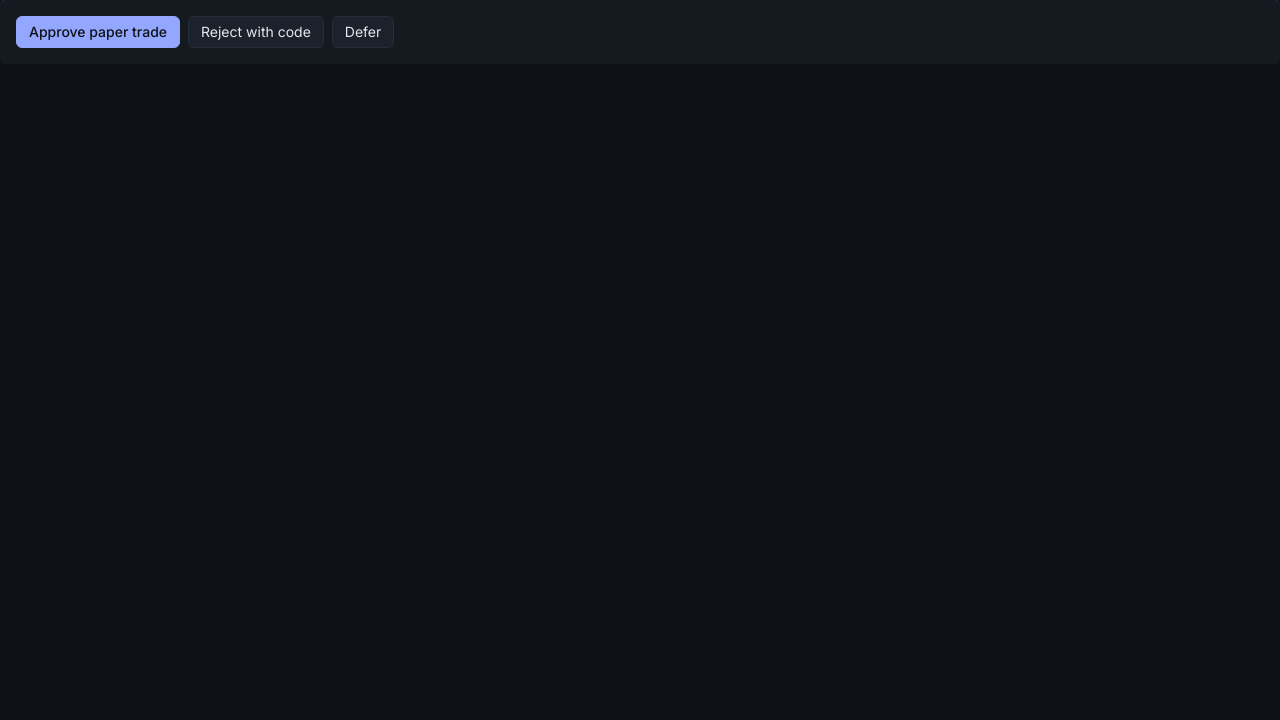
Test: approve › cancel and Escape close the dialog without sending anything
Click the button "Approve paper trade" at (98, 32), box [16,16,180,48]
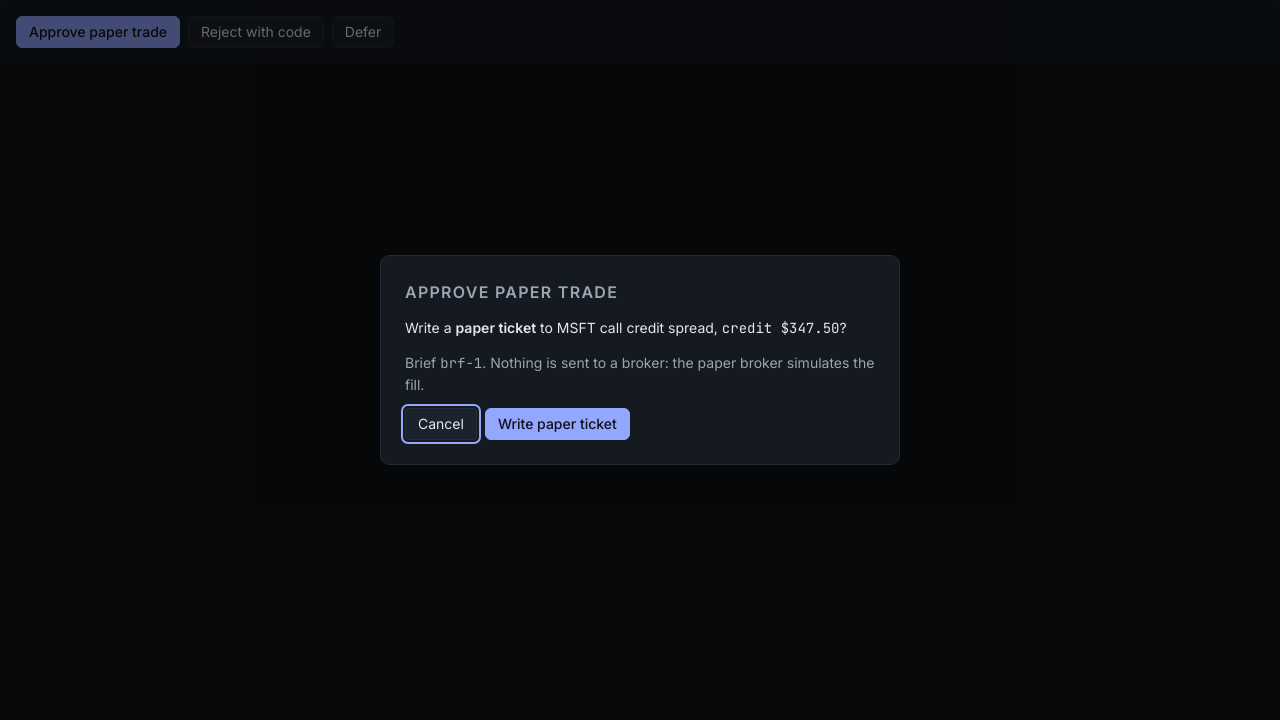
Click the button "Cancel" at (441, 424), box [405,408,477,440]
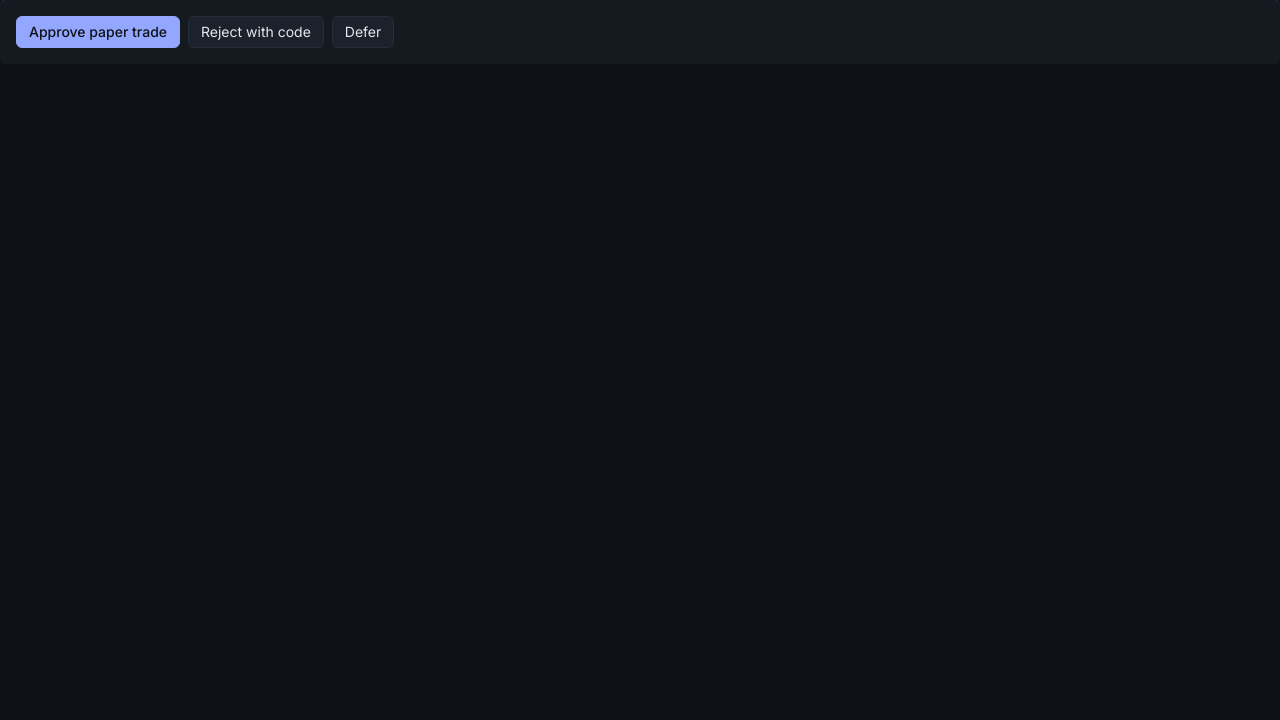
Expected: the dialog is gone
Click the button "Approve paper trade" at (98, 32), box [16,16,180,48]
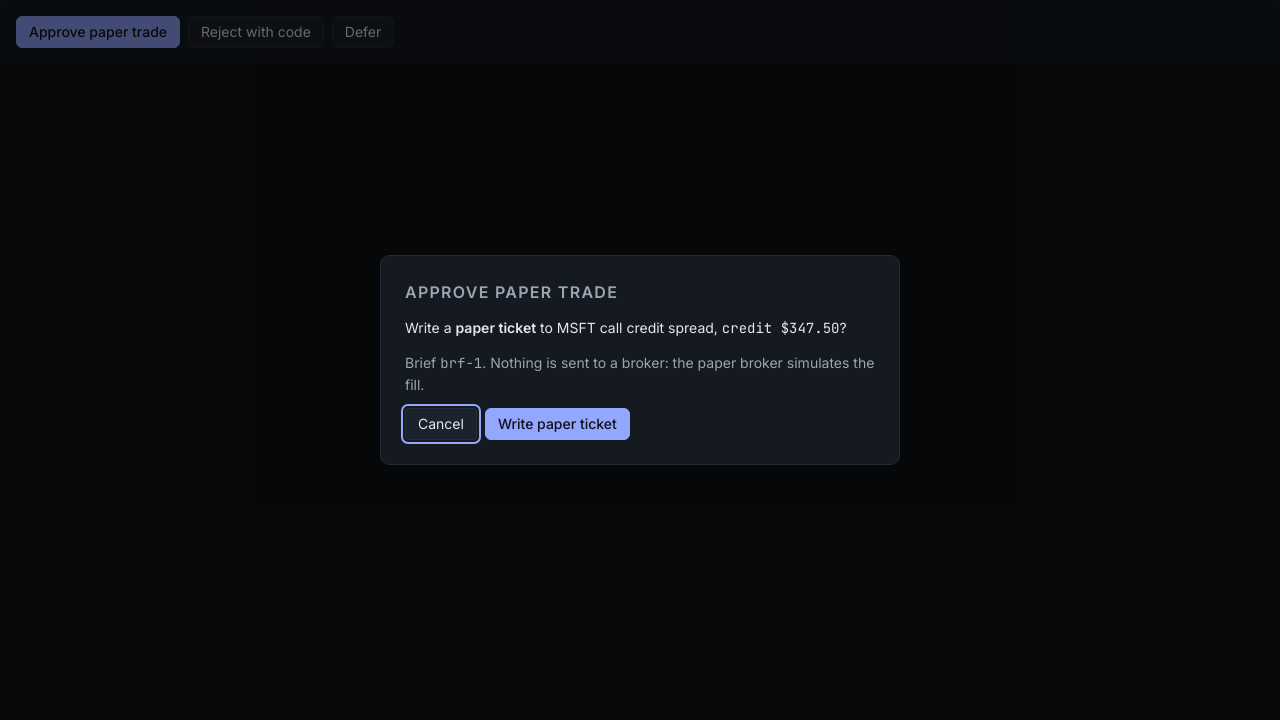
Press Escape
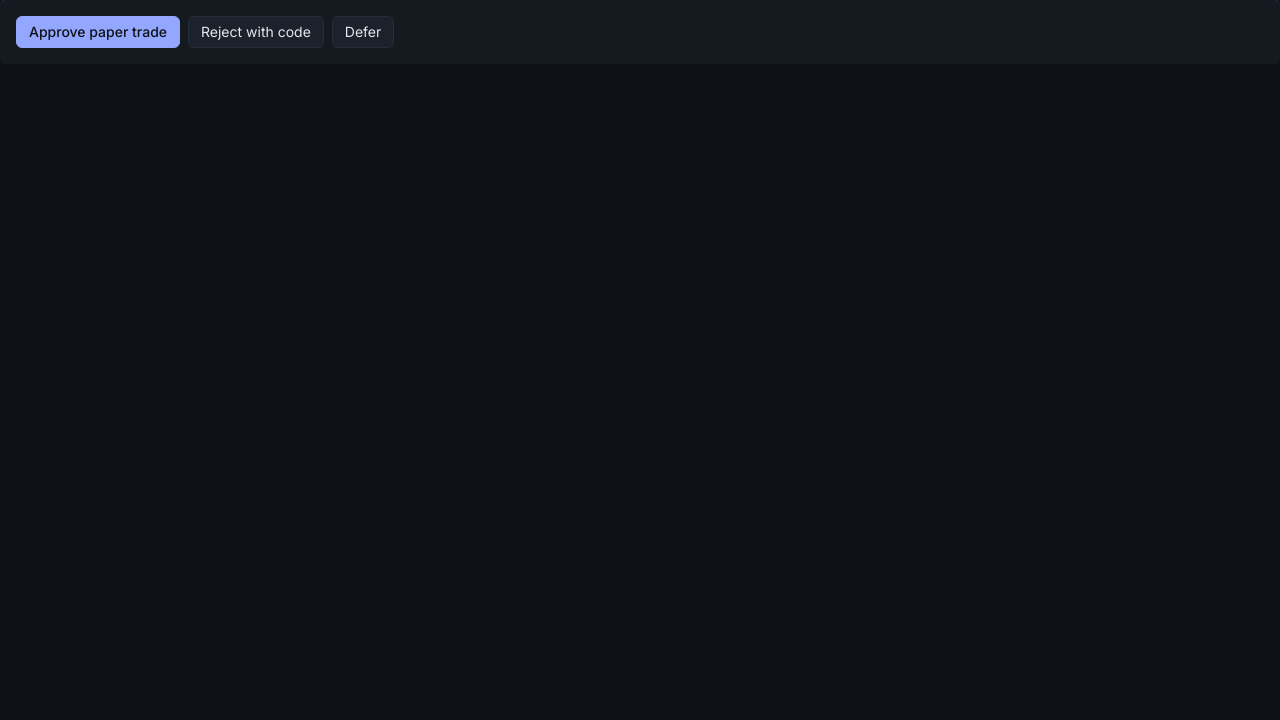
Expected: the dialog is gone
